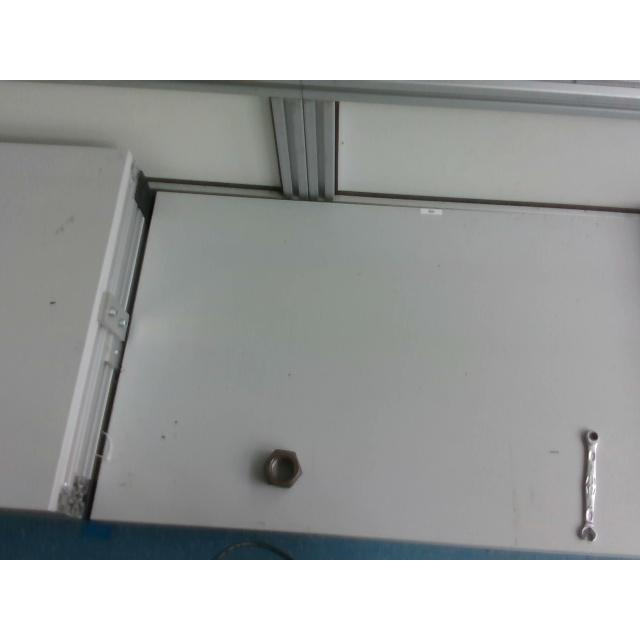M30: (262, 448, 302, 489)
Wrench: (577, 428, 599, 540)
